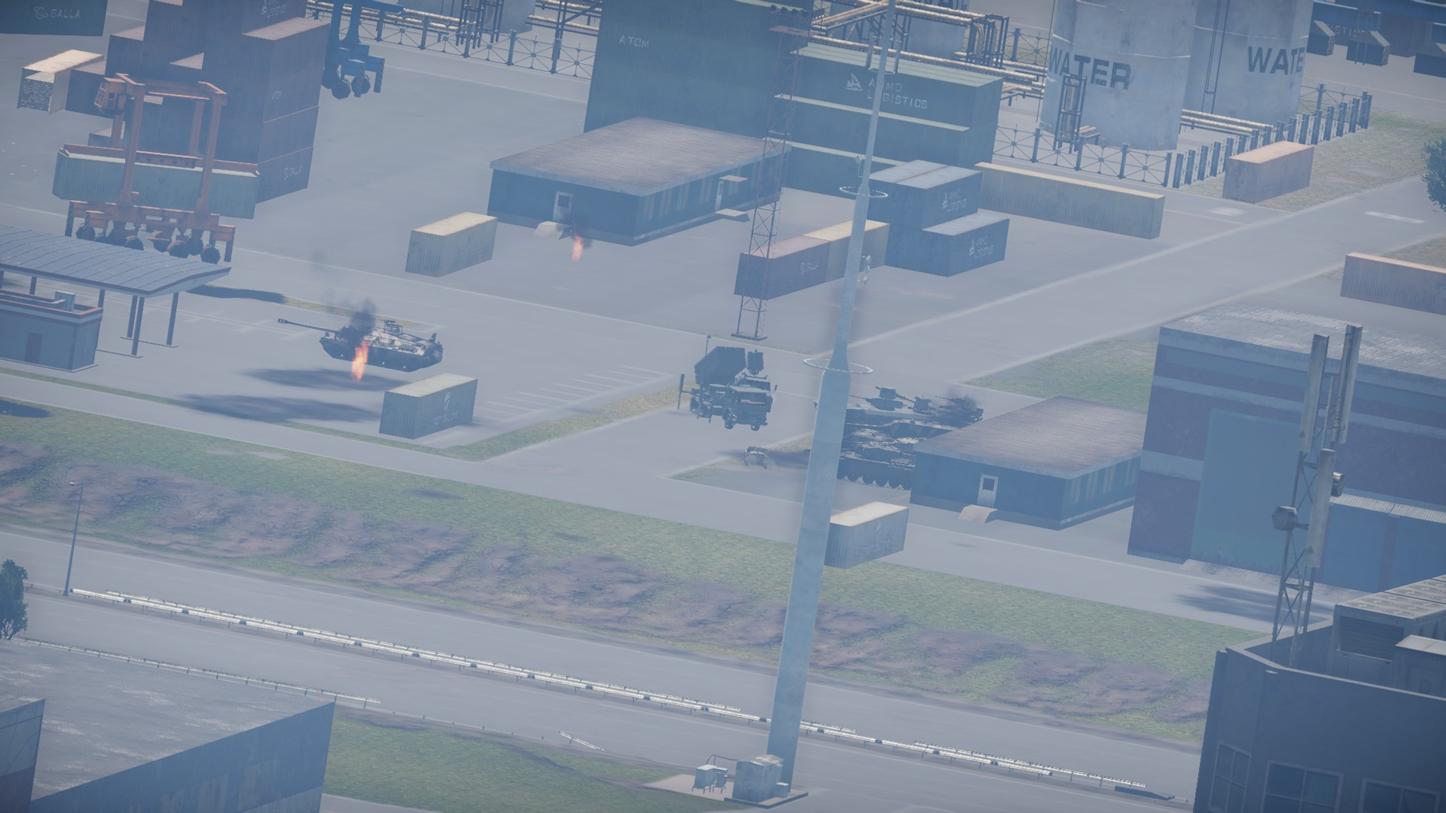spaa_TEL: (676, 347, 782, 431)
